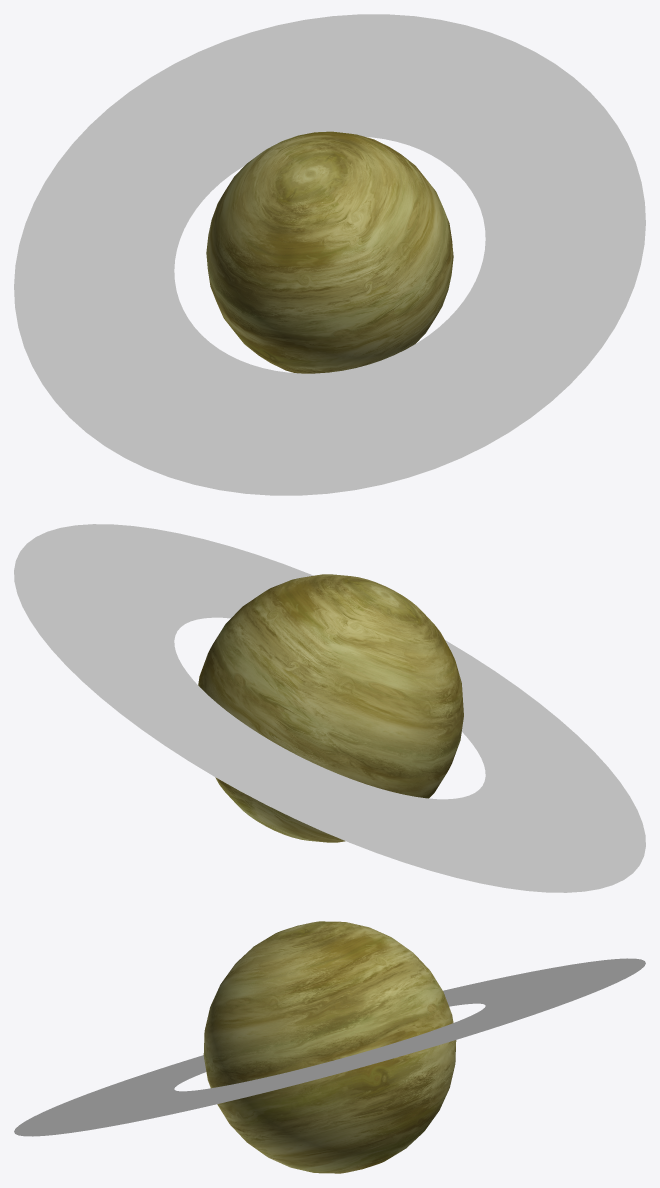
Rendered from moon_T_moon_06.fbx.
3 views of the same model, one above another, from view 1: azimuth 30°, elevation 25°; view 2: azimuth 150°, elevation 25°; view 3: azimuth 270°, elevation 25° (orthographic). The views are drawn at different scales.
Visible parts, largest first — view 1: moon_T_moon_06; view 2: moon_T_moon_06; view 3: moon_T_moon_06.
Part boxes in pixels (x1,y1,x2,y2): moon_T_moon_06: (14, 14, 645, 495); moon_T_moon_06: (14, 524, 645, 892); moon_T_moon_06: (14, 921, 645, 1173).
Bounding box in the file's own units: 314 × 139 × 321.
